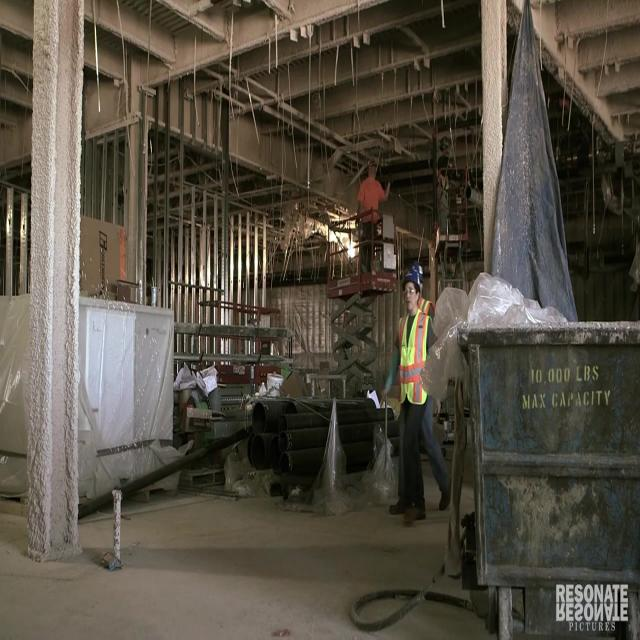Reflective-Jacket: (388, 302, 440, 417)
Safety-Helmet: (400, 257, 426, 294)
